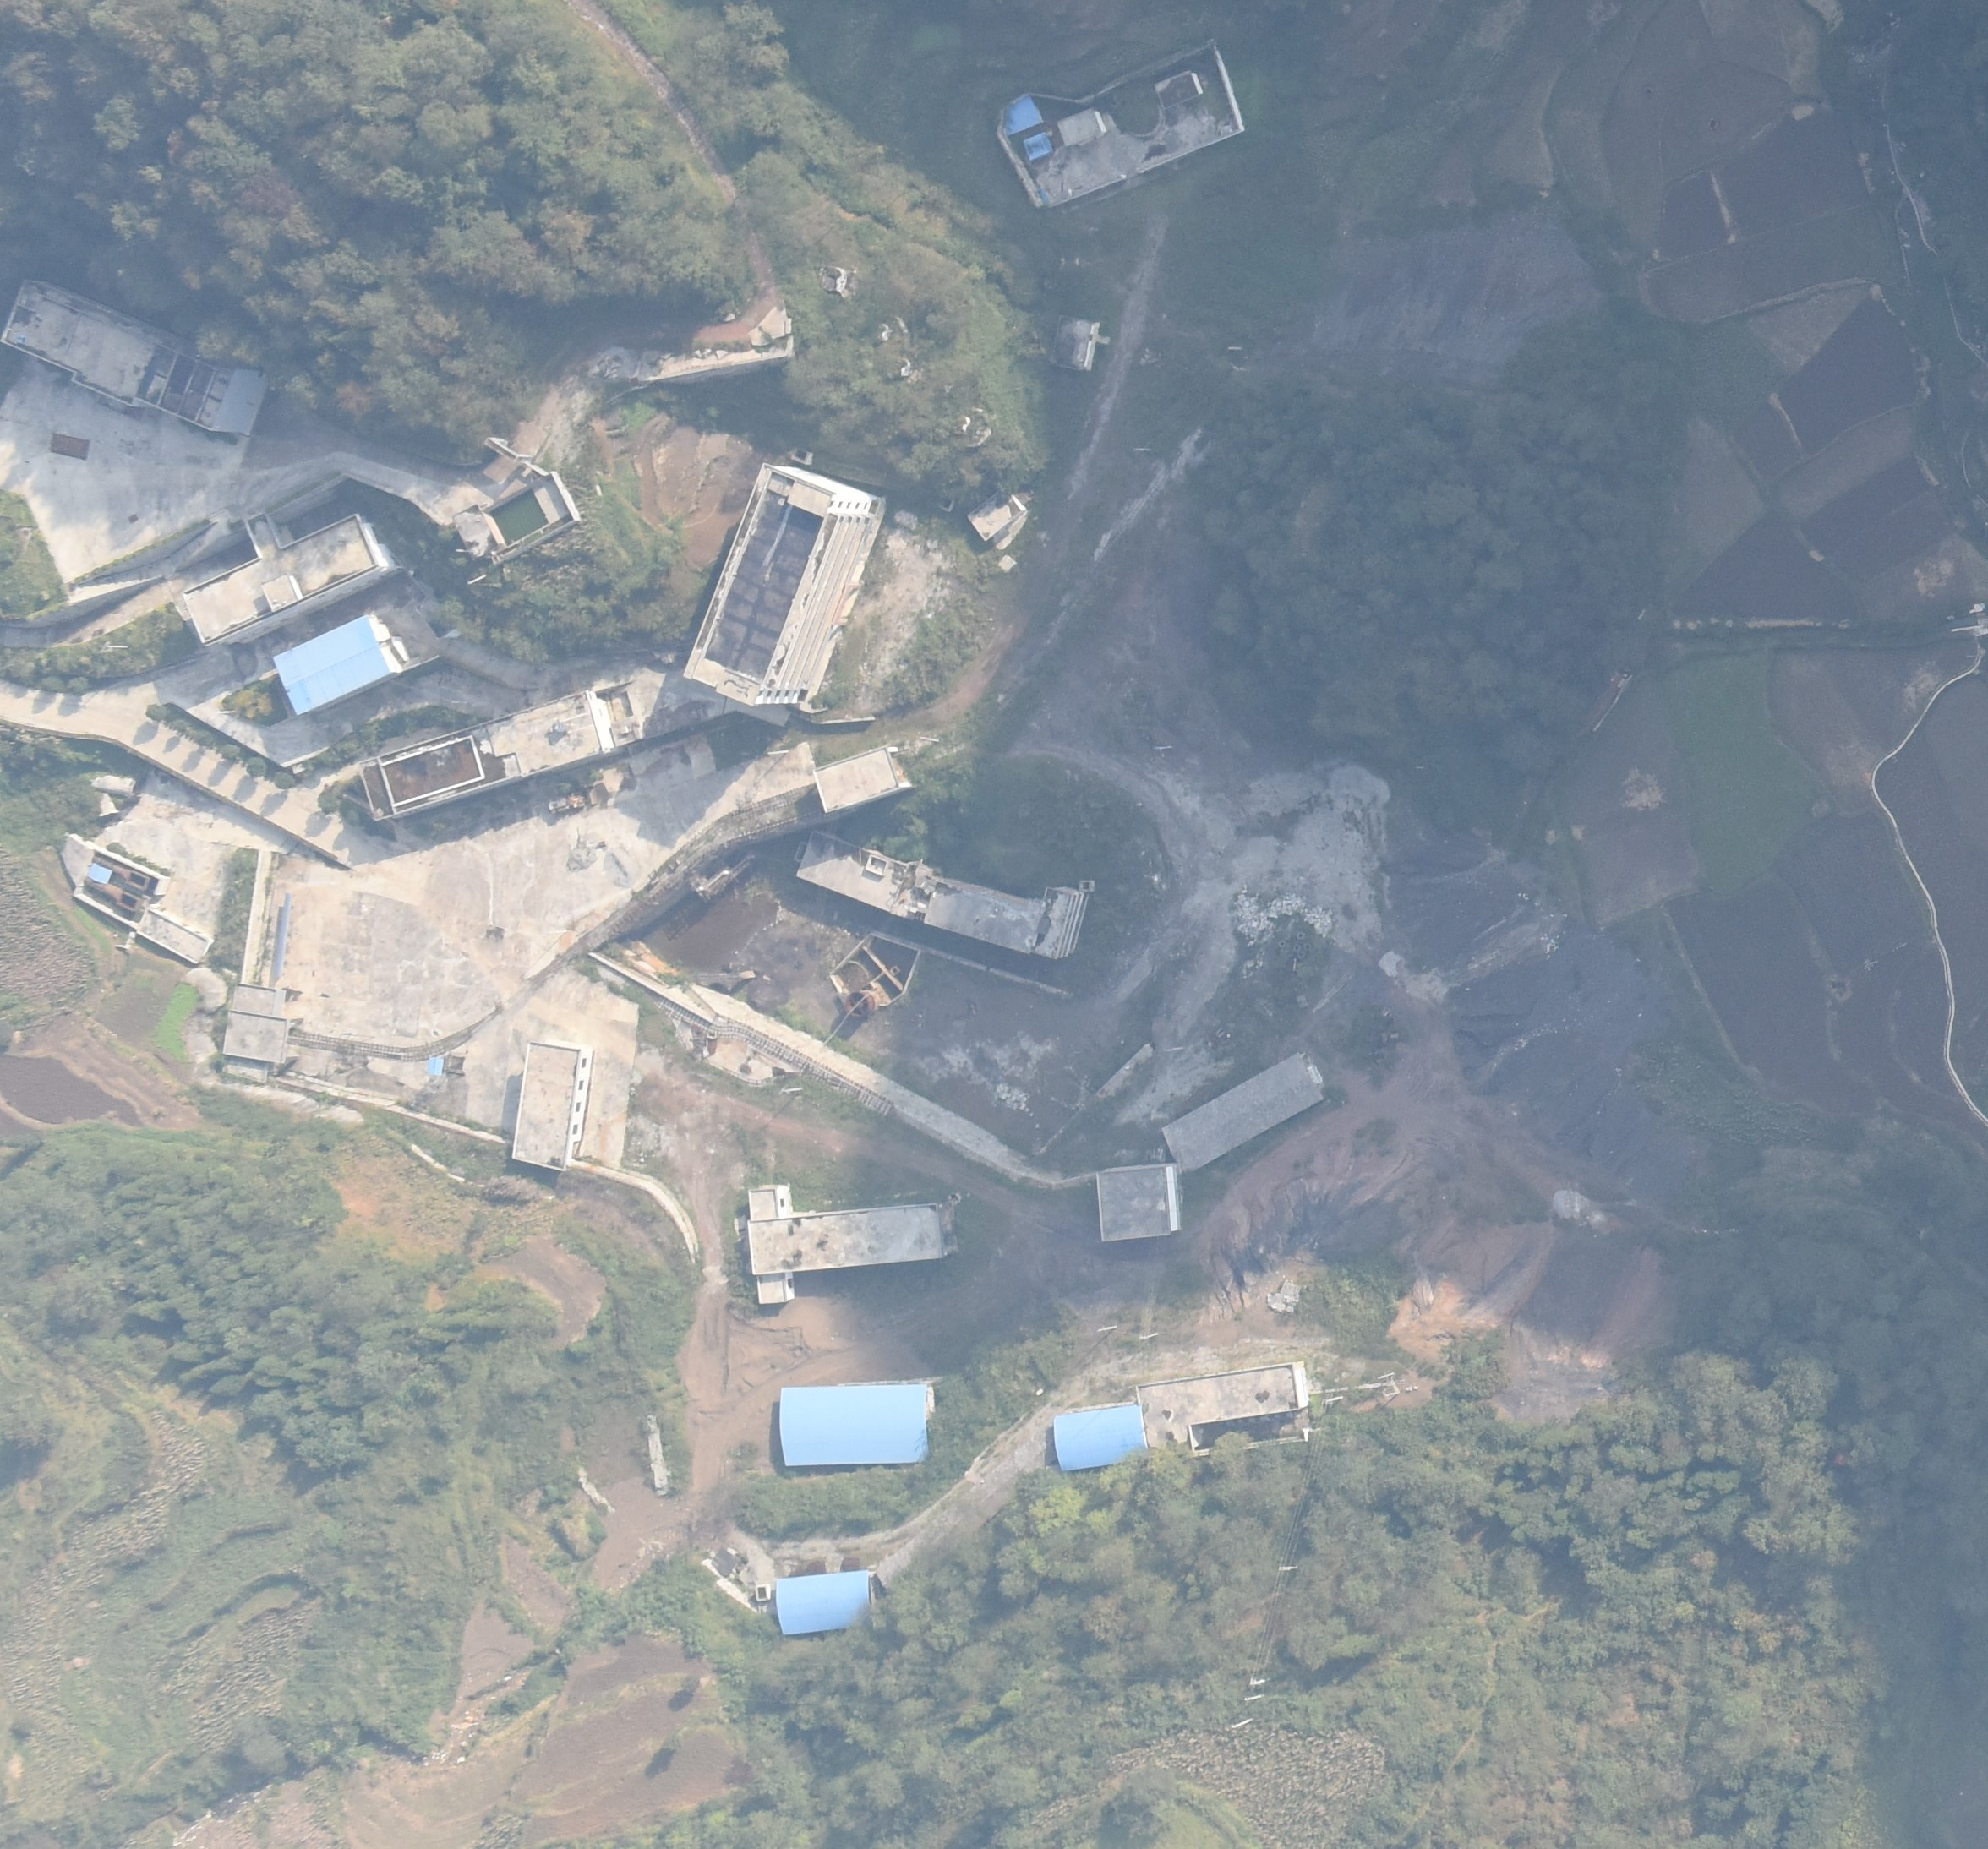building: (678, 454, 895, 726), (0, 268, 276, 452), (997, 45, 1255, 209), (356, 688, 615, 822), (789, 829, 1048, 952), (179, 509, 393, 653), (745, 1185, 956, 1309), (1163, 1048, 1331, 1175), (1135, 1357, 1305, 1463), (448, 471, 582, 568), (511, 1036, 593, 1176), (799, 742, 905, 817), (221, 984, 295, 1084), (1095, 1164, 1182, 1249), (1030, 878, 1091, 959), (136, 909, 212, 970), (219, 1010, 288, 1069), (1048, 315, 1107, 384), (964, 487, 1025, 546), (450, 502, 497, 563)
prefabricated-house: (775, 1380, 945, 1474), (271, 617, 403, 723), (1041, 1408, 1149, 1475), (770, 1569, 874, 1639), (1001, 97, 1048, 134), (1020, 130, 1058, 162), (85, 860, 113, 890), (427, 1055, 448, 1077)
